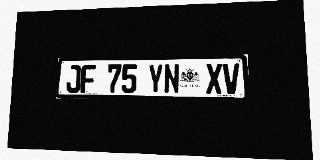5: (122, 64, 137, 93)
7: (106, 64, 122, 93)
F: (80, 65, 96, 93)
J: (66, 65, 81, 93)
N: (164, 64, 179, 94)
V: (222, 63, 240, 94)
X: (206, 63, 223, 94)
Y: (148, 64, 163, 93)
